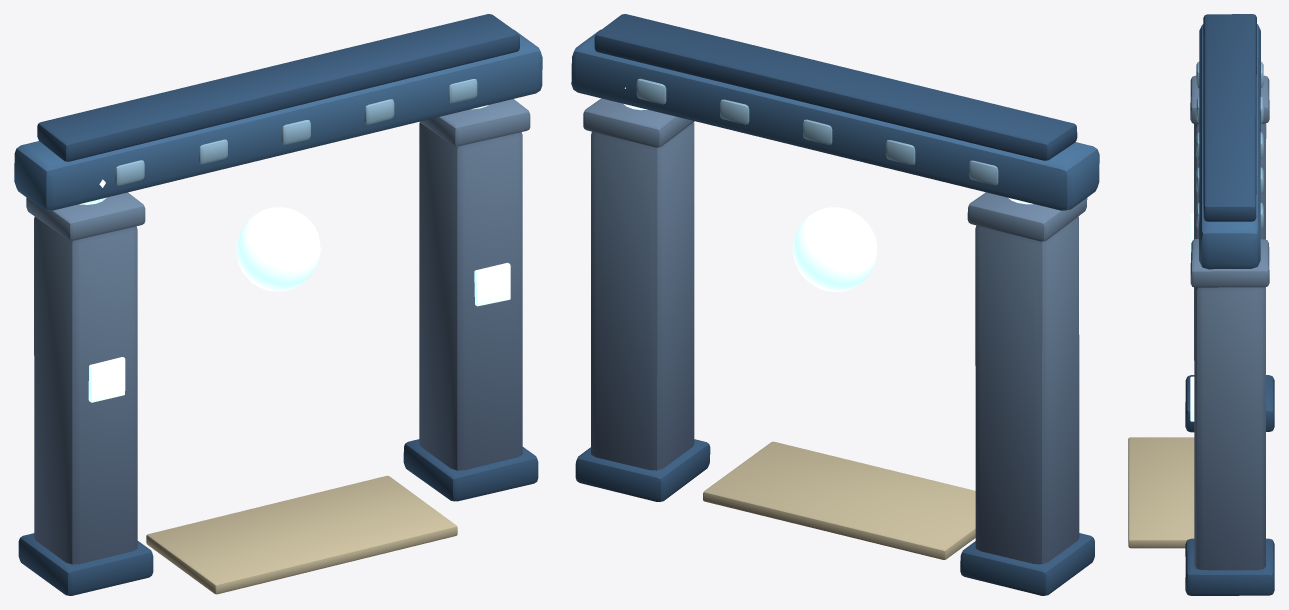
The picture shows the model from 3 angles, left to right: view 1: azimuth 30°, elevation 25°; view 2: azimuth 150°, elevation 25°; view 3: azimuth 270°, elevation 25°; orthographic projection. The views are drawn at different scales.
Parts seen in each view (by area): view 1: gate_f08093cd; view 2: gate_f08093cd; view 3: gate_f08093cd.
Boxes of the visible parts, box(x1,y1,x2,y2) form: gate_f08093cd: box(14, 14, 542, 595); gate_f08093cd: box(571, 14, 1099, 595); gate_f08093cd: box(1128, 14, 1274, 595).
Size of the model in its own units: 4.95 by 4.21 by 1.44.
